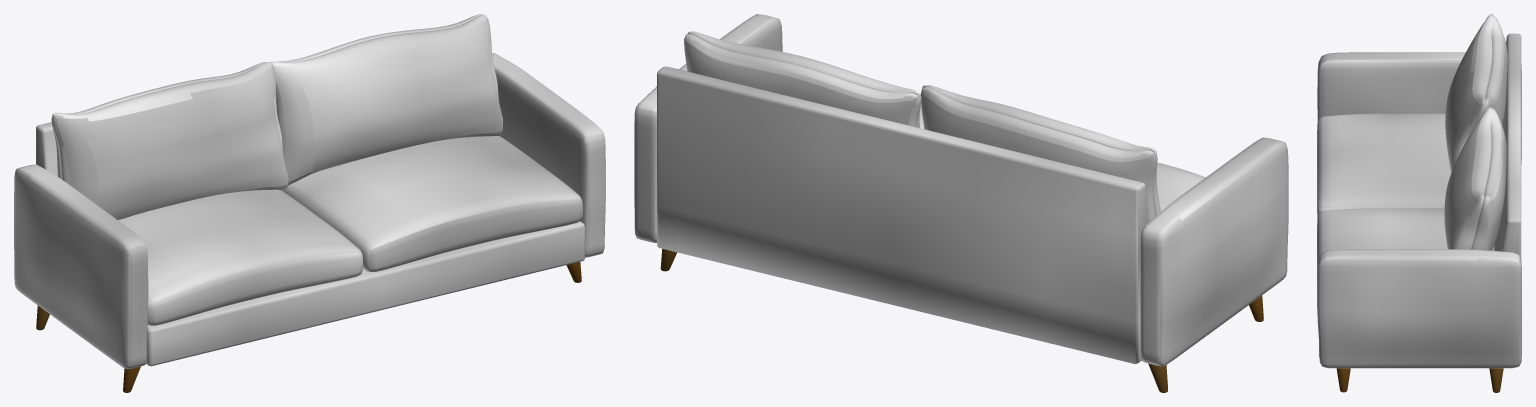
File: Sofa.fbx
3 renders of one model, left to right at view 1: azimuth 30°, elevation 25°; view 2: azimuth 150°, elevation 25°; view 3: azimuth 270°, elevation 25°, orthographic. The views are drawn at different scales.
Parts seen in each view (by area): view 1: Cube.009, Cylinder.004; view 2: Cube.009, Cylinder.006; view 3: Cube.009, Cylinder.006, Cylinder.004.
Boxes of the visible parts, x1=… form: Cube.009: x1=14, y1=14, x2=605, y2=369; Cylinder.004: x1=123, y1=262, x2=581, y2=392; Cube.009: x1=634, y1=14, x2=1288, y2=366; Cylinder.006: x1=660, y1=249, x2=1167, y2=392; Cube.009: x1=1317, y1=14, x2=1521, y2=368; Cylinder.006: x1=1489, y1=368, x2=1503, y2=392; Cylinder.004: x1=1336, y1=368, x2=1350, y2=392.
Bounding box in the file's own units: 204 × 85.97 × 82.96.
